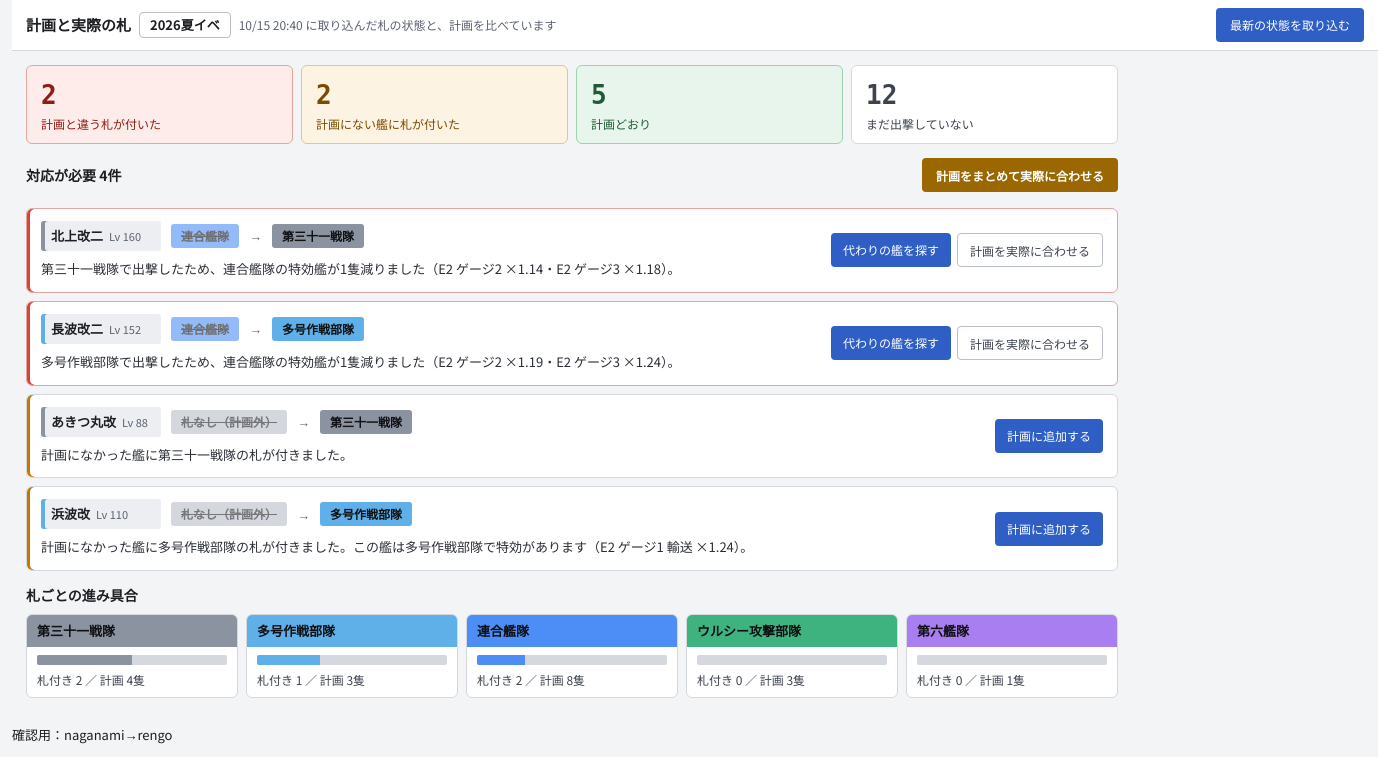
Scenario: 差分の画面（DriftPageContent） › 1 件ずつの反映 › 割り当てを保存できなかったら、警告に「保存できませんでした」を出す
The width and height of the screenshot is (1378, 757).
Expected: the list named "件数のまとめ" is shown, [26,65,1118,144]
Click the button "計画を実際に合わせる" in the row of "Lv 152" at [1030, 343], box [957,326,1103,360]
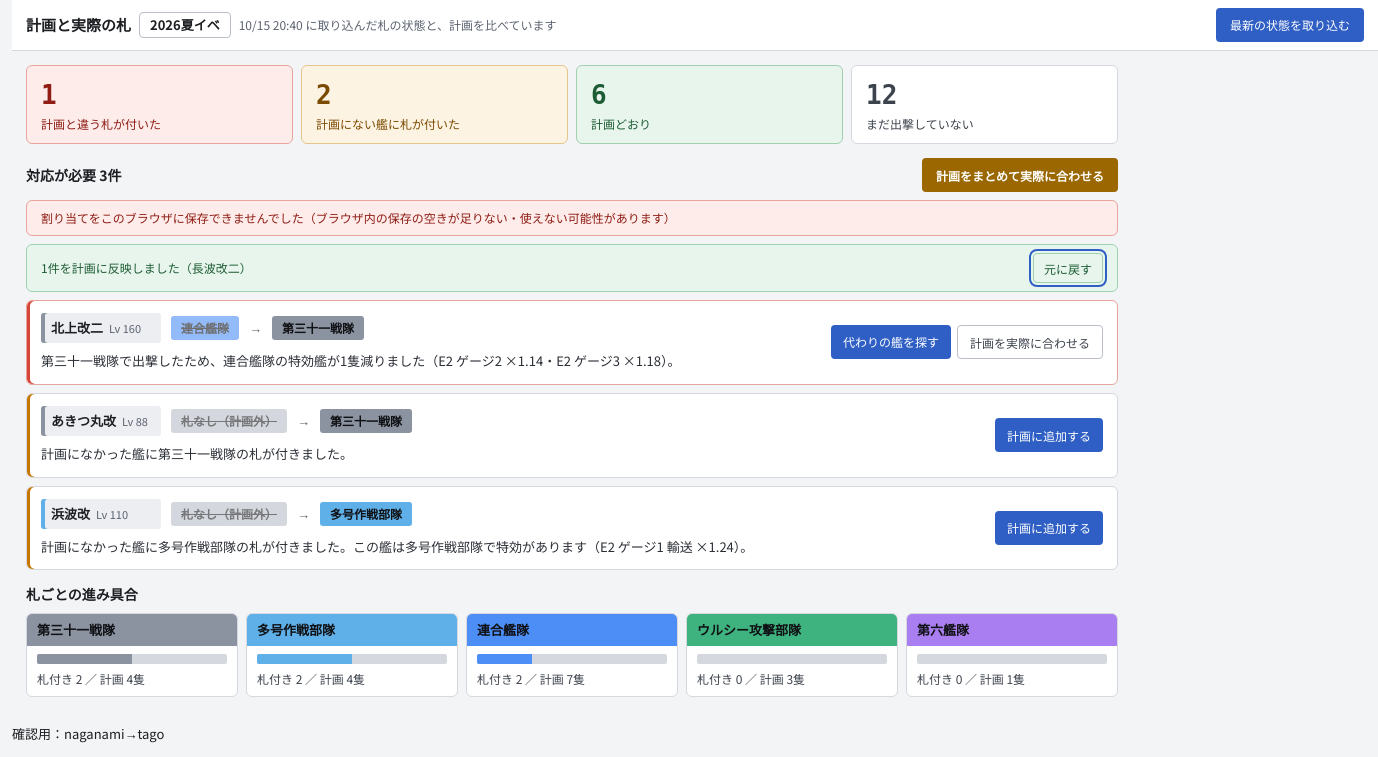
Result: the message "割り当てをこのブラウザに保存できませんでした（ブラウザ内の保存の空きが足りない・使えない可能性があります）" is shown at [26,200,1118,236]
